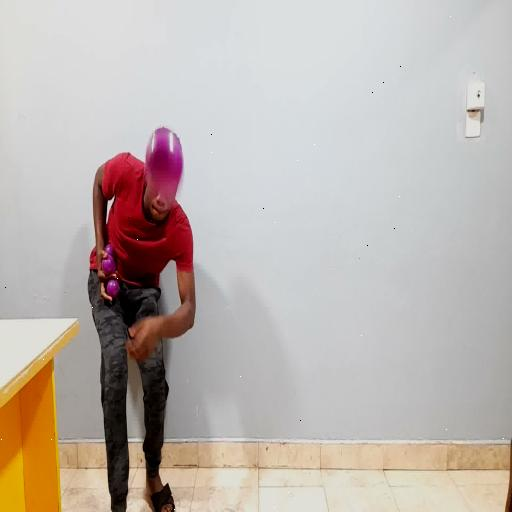plastic-ball: (140, 121, 187, 210)
